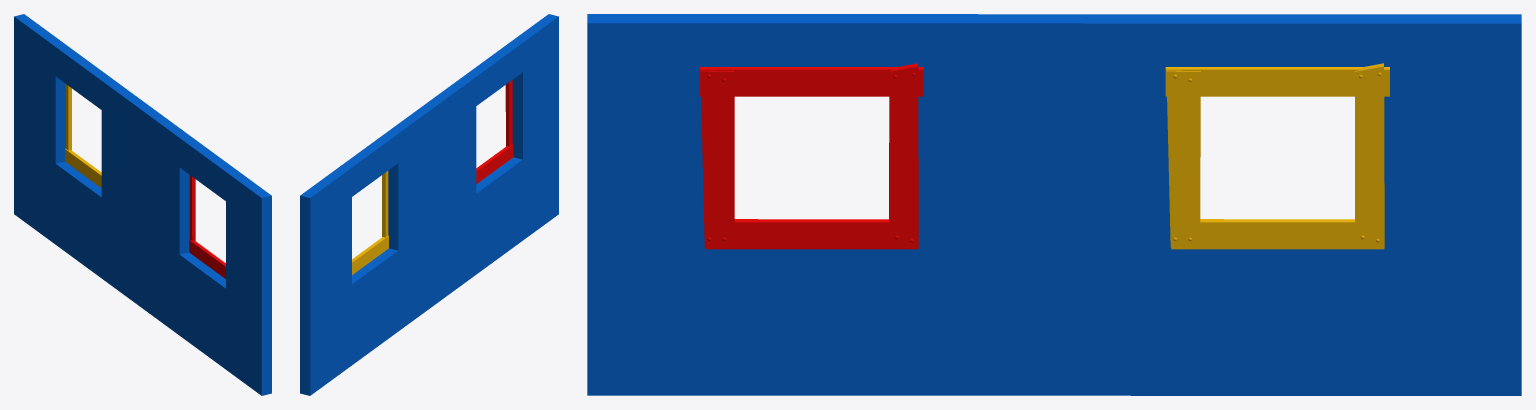
File: 3D_BUILD_WINDOWWALL1.FBX
The picture shows the model from 3 angles, left to right: view 1: azimuth 30°, elevation 25°; view 2: azimuth 150°, elevation 25°; view 3: azimuth 270°, elevation 25°; orthographic projection. The views are drawn at different scales.
Visible parts, largest first — view 1: Wall, Window2, Window003; view 2: Wall, Window003, Window2; view 3: Wall, Window2, Window003.
Part boxes in pixels (<box>): Wall: <box>14,14,271,395</box>; Window2: <box>65,84,101,187</box>; Window003: <box>189,175,225,278</box>; Wall: <box>300,14,558,395</box>; Window003: <box>476,80,513,183</box>; Window2: <box>352,171,388,274</box>; Wall: <box>587,14,1521,395</box>; Window2: <box>1165,63,1389,249</box>; Window003: <box>700,63,923,249</box>.
Size of the model in its own units: 15.52 by 200 by 455.
